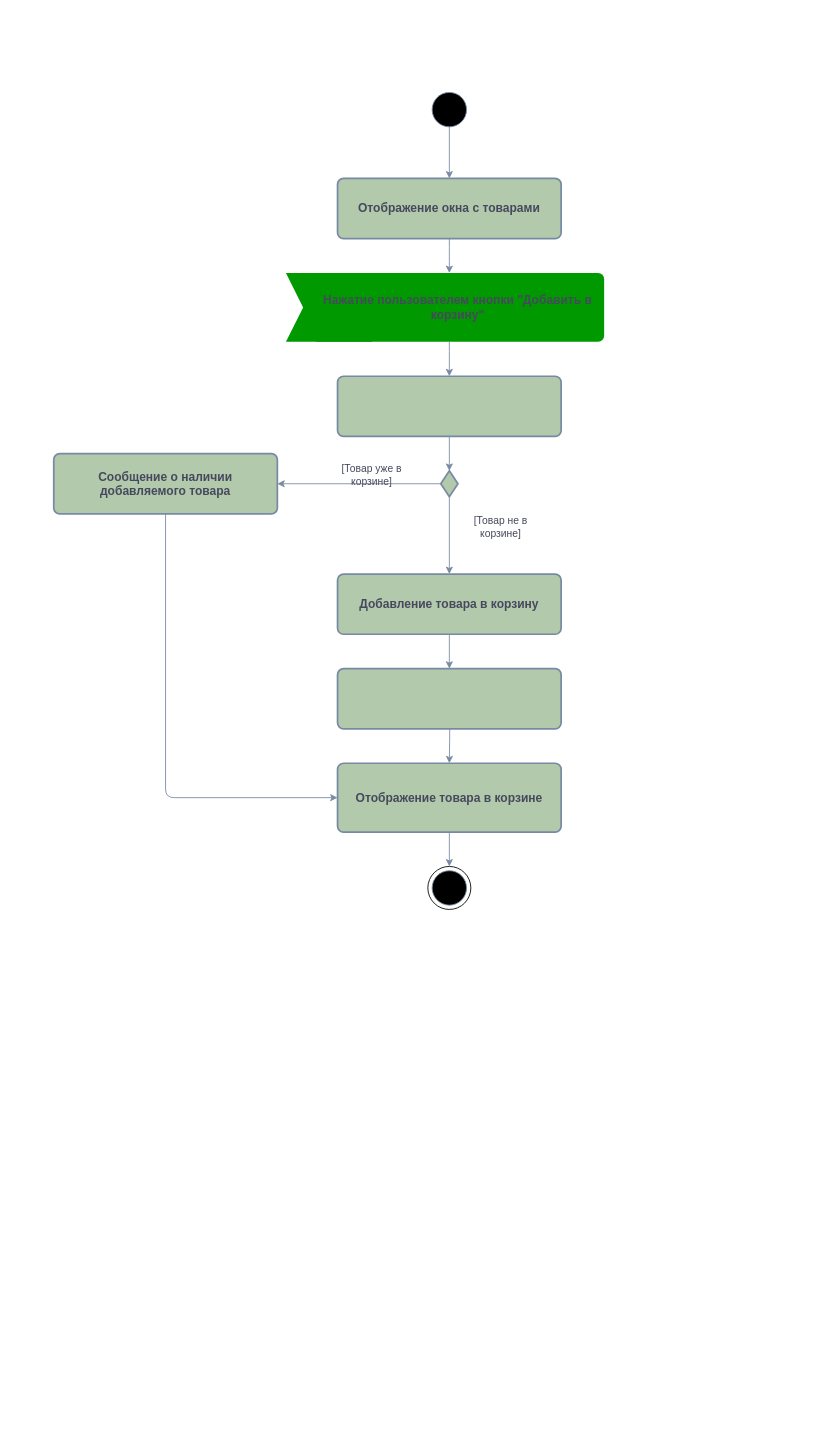
This 834x1432 diagram has some shape labels left out. Each missing label, with the centre of its shape:
"Проверка на наличие этого же товара в корзине" belongs at point 449,406.
"Сообщение о добавлении товара в корзину" belongs at point 449,698.
